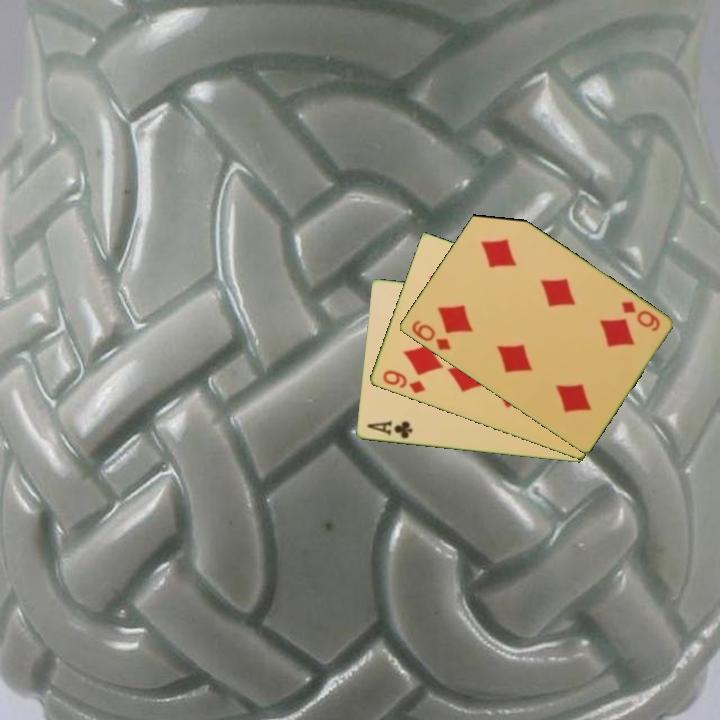6d: (617, 298, 663, 335), (408, 317, 453, 353)
9d: (379, 367, 428, 397)
Ac: (363, 417, 415, 442)
